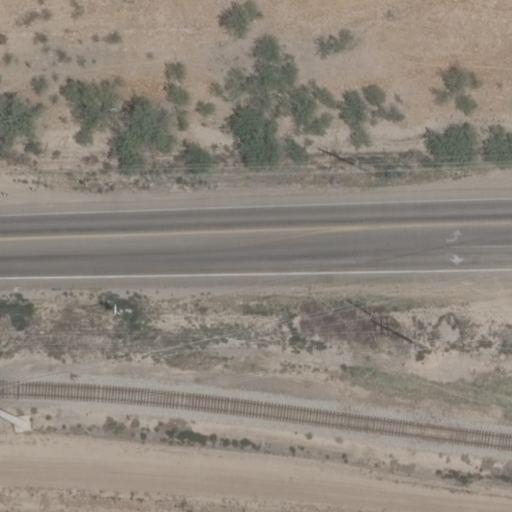DT: (412, 335, 431, 357)
